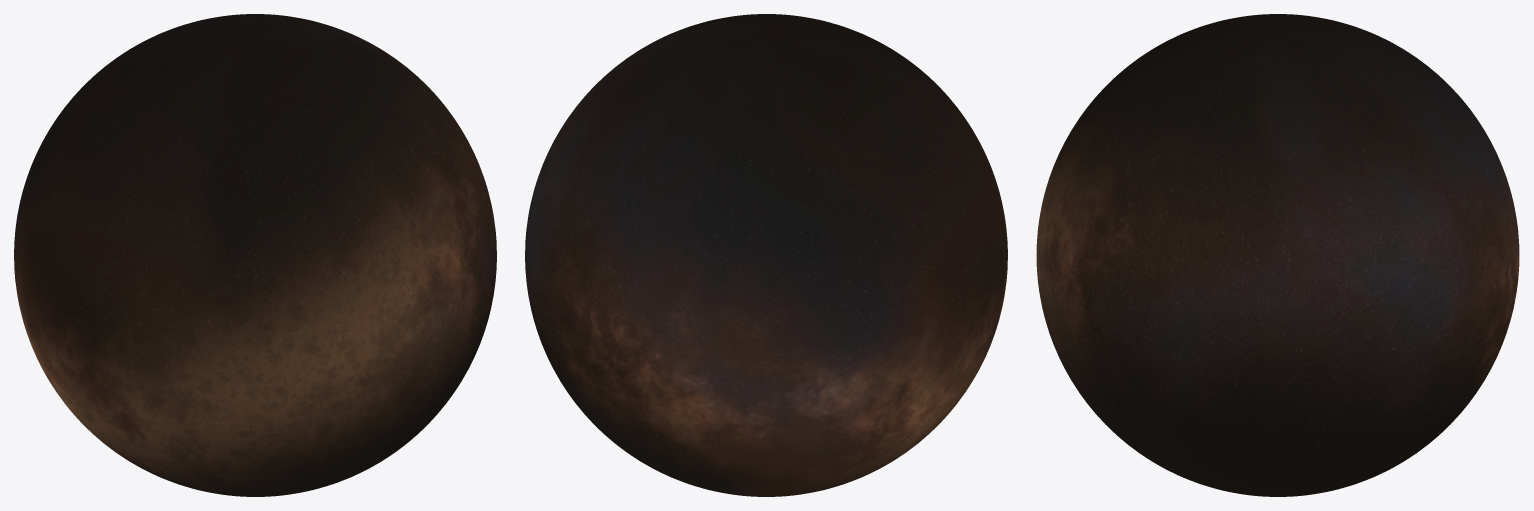
The model's file is deep-space-environment.glb.
The picture shows the model from 3 angles, left to right: view 1: azimuth 30°, elevation 25°; view 2: azimuth 150°, elevation 25°; view 3: azimuth 270°, elevation 25°; orthographic projection.
Visible parts, largest first — view 1: DeepSpace_Dome; view 2: DeepSpace_Dome; view 3: DeepSpace_Dome.
Part boxes in pixels (bbox=[...]): DeepSpace_Dome: bbox=[14, 14, 496, 496]; DeepSpace_Dome: bbox=[525, 14, 1007, 496]; DeepSpace_Dome: bbox=[1036, 14, 1519, 496].
Bounding box in the file's own units: 40000 × 40000 × 40000.
5 materials, 5 textured.
